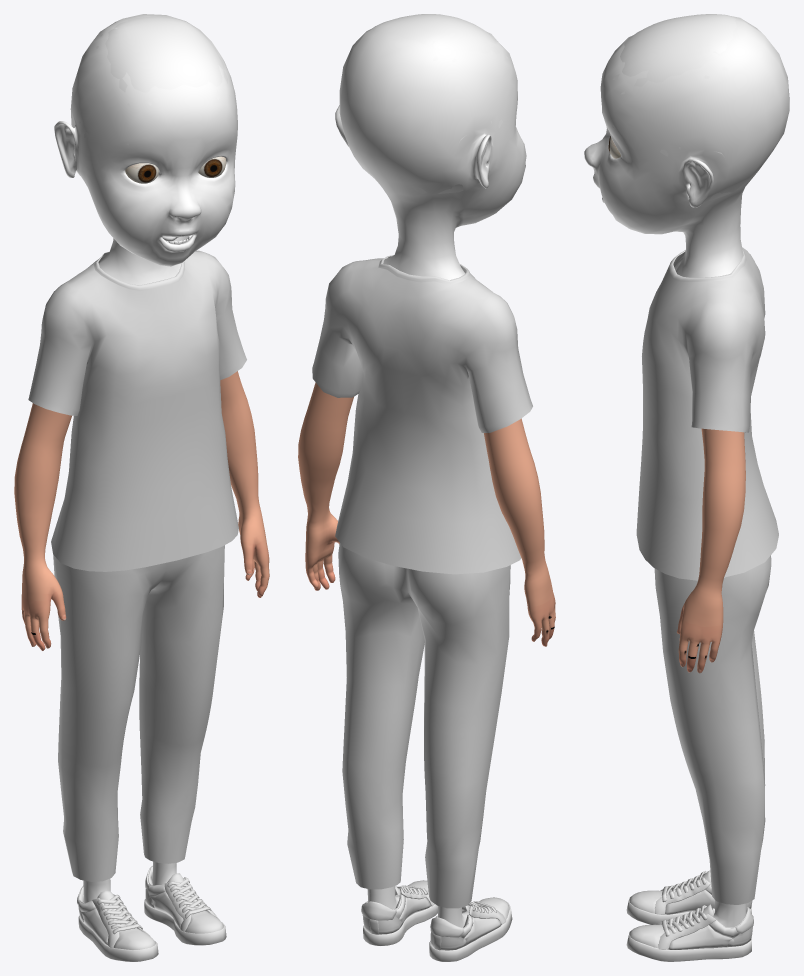
The model's file is Surpries.fbx.
3 renders of one model, left to right at view 1: azimuth 30°, elevation 25°; view 2: azimuth 150°, elevation 25°; view 3: azimuth 270°, elevation 25°, orthographic.
Parts seen in each view (by area): view 1: tshirt_low, body_low, pant_low, back_low, body_low.001, EYERight_low; view 2: tshirt_low, body_low, pant_low, back_low, body_low.001; view 3: body_low, tshirt_low, pant_low, back_low, body_low.001.
Part boxes in pixels (<box>): tshirt_low: <box>28,250,246,571</box>; body_low: <box>14,14,269,903</box>; pant_low: <box>53,545,224,881</box>; back_low: <box>77,865,226,961</box>; body_low.001: <box>71,16,230,137</box>; EYERight_low: <box>125,163,158,183</box>; tshirt_low: <box>312,255,532,574</box>; body_low: <box>298,26,555,927</box>; pant_low: <box>338,542,510,908</box>; back_low: <box>361,880,512,961</box>; body_low.001: <box>359,14,507,193</box>; body_low: <box>584,15,789,927</box>; tshirt_low: <box>636,247,778,580</box>; pant_low: <box>654,555,771,904</box>; back_low: <box>626,870,753,961</box>; body_low.001: <box>613,14,751,200</box>.
Bounding box in the file's own units: 19.39 × 70.37 × 14.32.
Materials: 4 (1 with a texture image).
